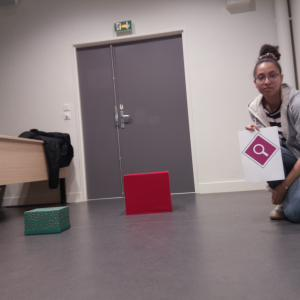search: (243, 133, 278, 169)
